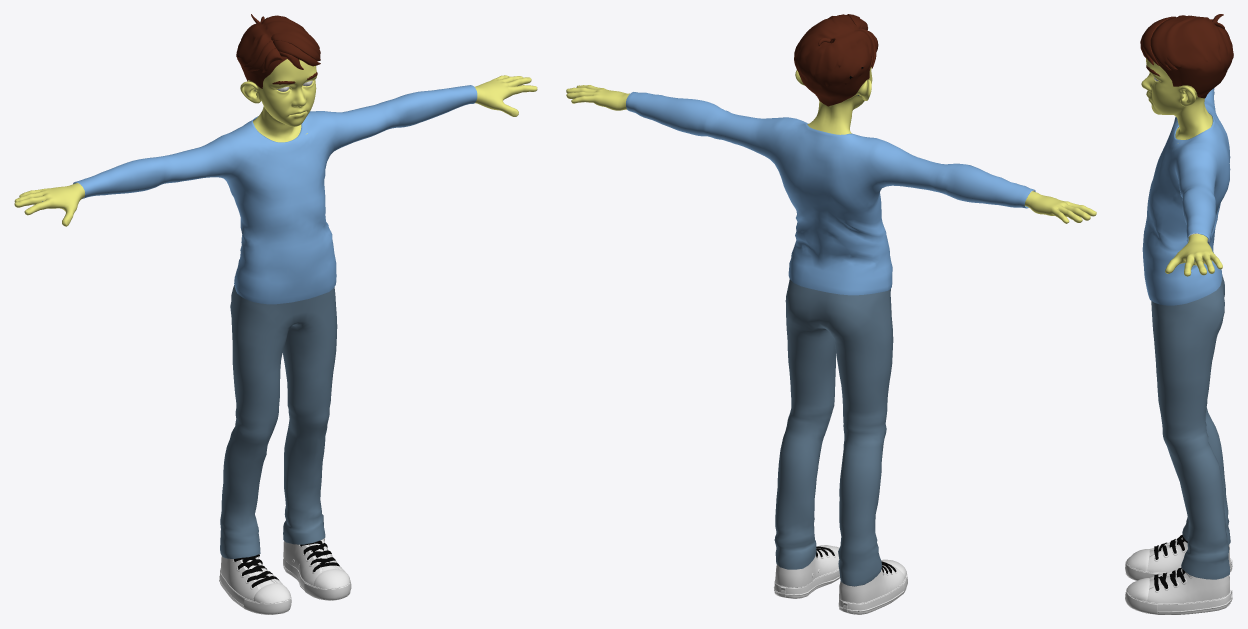
File: BoyKite.fbx
3 views of the same model, side by side, from view 1: azimuth 30°, elevation 25°; view 2: azimuth 150°, elevation 25°; view 3: azimuth 270°, elevation 25° (orthographic).
Visible parts, largest first — view 1: boy_SKELMESH; view 2: boy_SKELMESH; view 3: boy_SKELMESH.
Boxes of the visible parts, box(x1,y1,x2,y2) form: boy_SKELMESH: box(14, 14, 537, 614); boy_SKELMESH: box(566, 14, 1096, 614); boy_SKELMESH: box(1125, 14, 1233, 614).
Size of the model in its own units: 144 by 150 by 25.87.
